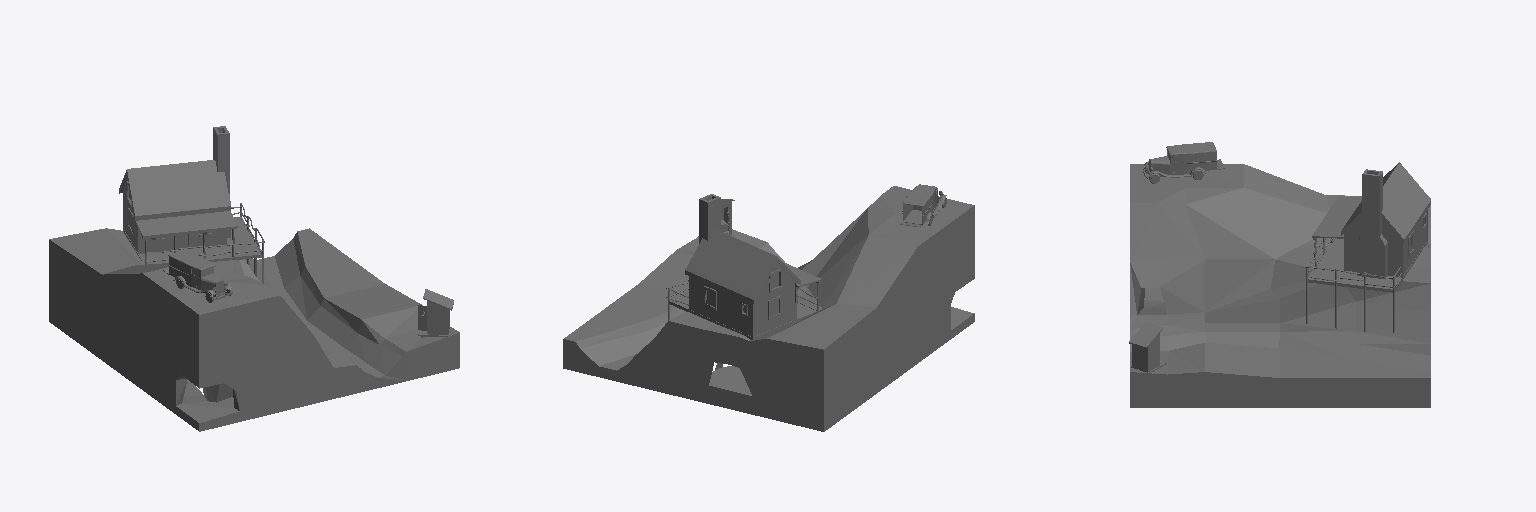
The model's file is 3DScene_NotTriangelized.obj.
The picture shows the model from 3 angles: view 1: azimuth 30°, elevation 25°; view 2: azimuth 150°, elevation 25°; view 3: azimuth 270°, elevation 25°; orthographic projection.
Visible parts, largest first — view 1: Landscape_Geo_Mesh.153, House_geo_Mesh.333, BootleggerTruck_geo_Mesh.206, pCube17_Mesh.266; view 2: Landscape_Geo_Mesh.153, House_geo_Mesh.333, BootleggerTruck_geo_Mesh.206; view 3: Landscape_Geo_Mesh.153, House_geo_Mesh.333, BootleggerTruck_geo_Mesh.206, pCube17_Mesh.266.
Boxes of the visible parts, x1,y1,x2,y2 form: Landscape_Geo_Mesh.153: [49, 228, 459, 431]; House_geo_Mesh.333: [119, 126, 264, 283]; BootleggerTruck_geo_Mesh.206: [163, 249, 232, 302]; pCube17_Mesh.266: [418, 289, 453, 337]; Landscape_Geo_Mesh.153: [563, 186, 974, 431]; House_geo_Mesh.333: [666, 194, 821, 339]; BootleggerTruck_geo_Mesh.206: [900, 184, 946, 226]; Landscape_Geo_Mesh.153: [1130, 164, 1430, 407]; House_geo_Mesh.333: [1305, 162, 1430, 332]; BootleggerTruck_geo_Mesh.206: [1143, 142, 1224, 183]; pCube17_Mesh.266: [1129, 322, 1166, 372].
Bounding box in the file's own units: 20.19 × 13.04 × 20.12.